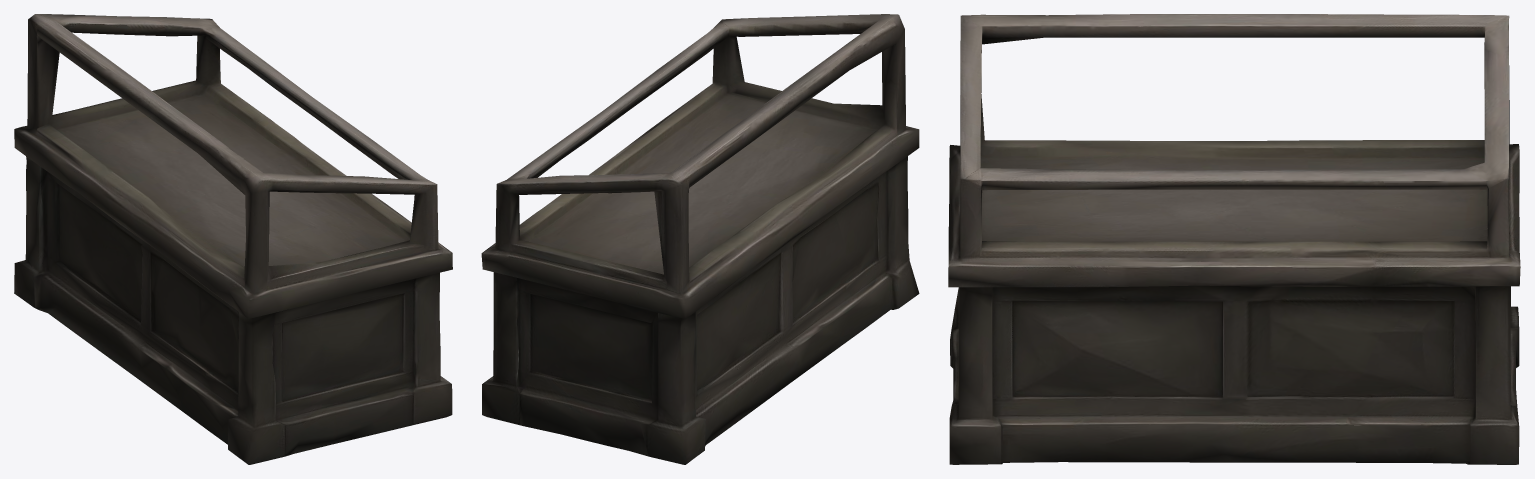
Rendered from display_case_rectangular.glb.
3 views of the same model, side by side, from view 1: azimuth 30°, elevation 25°; view 2: azimuth 150°, elevation 25°; view 3: azimuth 270°, elevation 25° (orthographic). The views are drawn at different scales.
Visible parts, largest first — view 1: tripo_node_2d8d4ac5-f033-45c2-b24c-8c598f17bc99; view 2: tripo_node_2d8d4ac5-f033-45c2-b24c-8c598f17bc99; view 3: tripo_node_2d8d4ac5-f033-45c2-b24c-8c598f17bc99.
Boxes of the visible parts, x1,y1,x2,y2 form: tripo_node_2d8d4ac5-f033-45c2-b24c-8c598f17bc99: (14,14,452,464); tripo_node_2d8d4ac5-f033-45c2-b24c-8c598f17bc99: (481,14,919,464); tripo_node_2d8d4ac5-f033-45c2-b24c-8c598f17bc99: (948,14,1520,464).
Size of the model in its own units: 0.5011 by 0.6595 by 1.
1 material, 1 textured.
